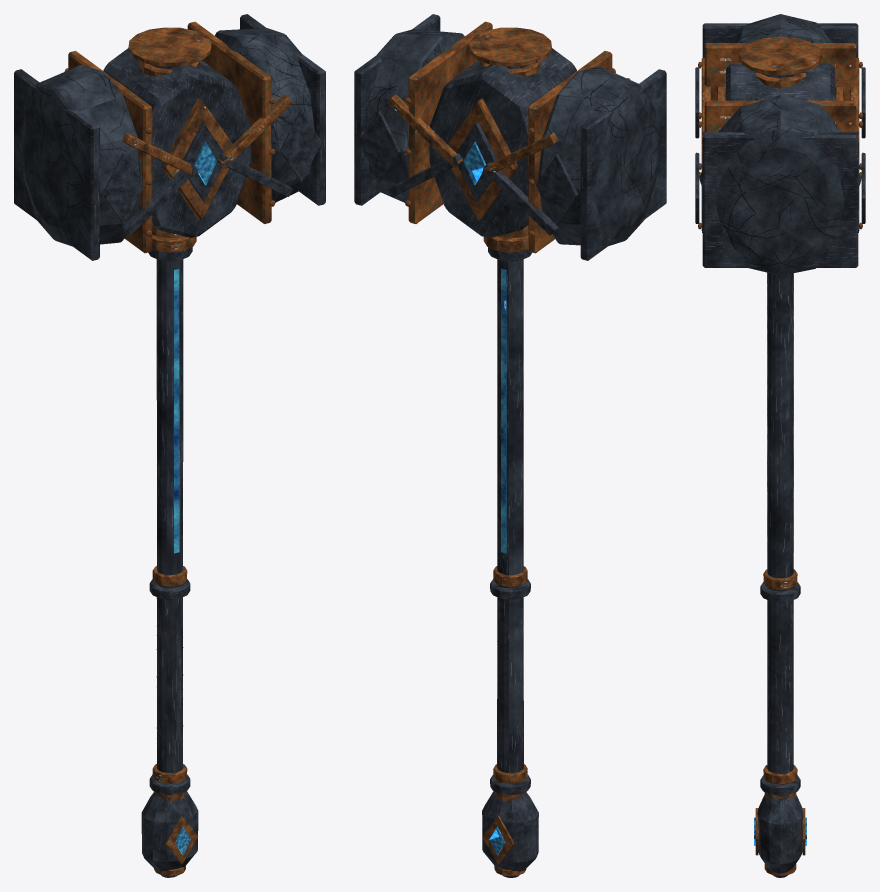
Rendered from SM_DRW_SiegeBreaker_Hammer_A01_LOD1.fbx.
3 views of the same model, side by side, from view 1: azimuth 30°, elevation 25°; view 2: azimuth 150°, elevation 25°; view 3: azimuth 270°, elevation 25° (orthographic).
Visible parts, largest first — view 1: SM_DRW_SiegeBreaker_Hammer_A01_LOD1; view 2: SM_DRW_SiegeBreaker_Hammer_A01_LOD1; view 3: SM_DRW_SiegeBreaker_Hammer_A01_LOD1.
Part boxes in pixels (box(x1,y1,x2,y2)): SM_DRW_SiegeBreaker_Hammer_A01_LOD1: box(14, 14, 325, 877); SM_DRW_SiegeBreaker_Hammer_A01_LOD1: box(354, 14, 666, 877); SM_DRW_SiegeBreaker_Hammer_A01_LOD1: box(695, 14, 865, 877).
Bounding box in the file's own units: 0.52 × 1.7 × 0.32.
